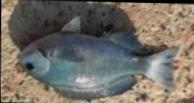fish: (18, 15, 178, 99)
